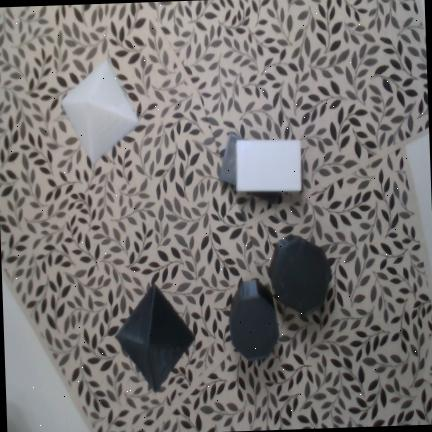Paralelepipedo: (219, 133, 288, 205), (235, 140, 302, 192)
Piramide: (115, 283, 195, 391), (62, 60, 139, 164)
Prisma_hexagonal: (269, 235, 328, 315), (229, 279, 279, 360)
